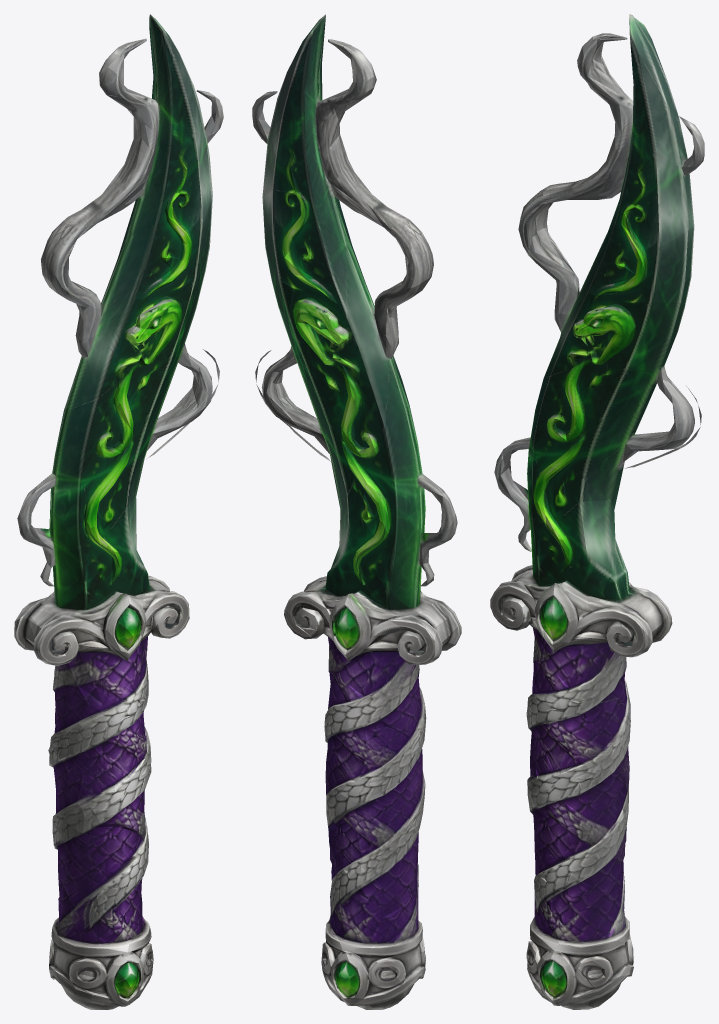
File: dagger_3.glb
3 views of the same model, side by side, from view 1: azimuth 30°, elevation 25°; view 2: azimuth 150°, elevation 25°; view 3: azimuth 330°, elevation 25° (orthographic). The views are drawn at different scales.
Visible parts, largest first — view 1: output_unwrapped; view 2: output_unwrapped; view 3: output_unwrapped.
Boxes of the visible parts, x1=… form: output_unwrapped: x1=14, y1=14, x2=223, y2=1009; output_unwrapped: x1=252, y1=14, x2=461, y2=1009; output_unwrapped: x1=490, y1=14, x2=704, y2=1009.
Size of the model in its own units: 0.4134 by 1.9 by 0.2178.
Materials: 1 (1 with a texture image).
